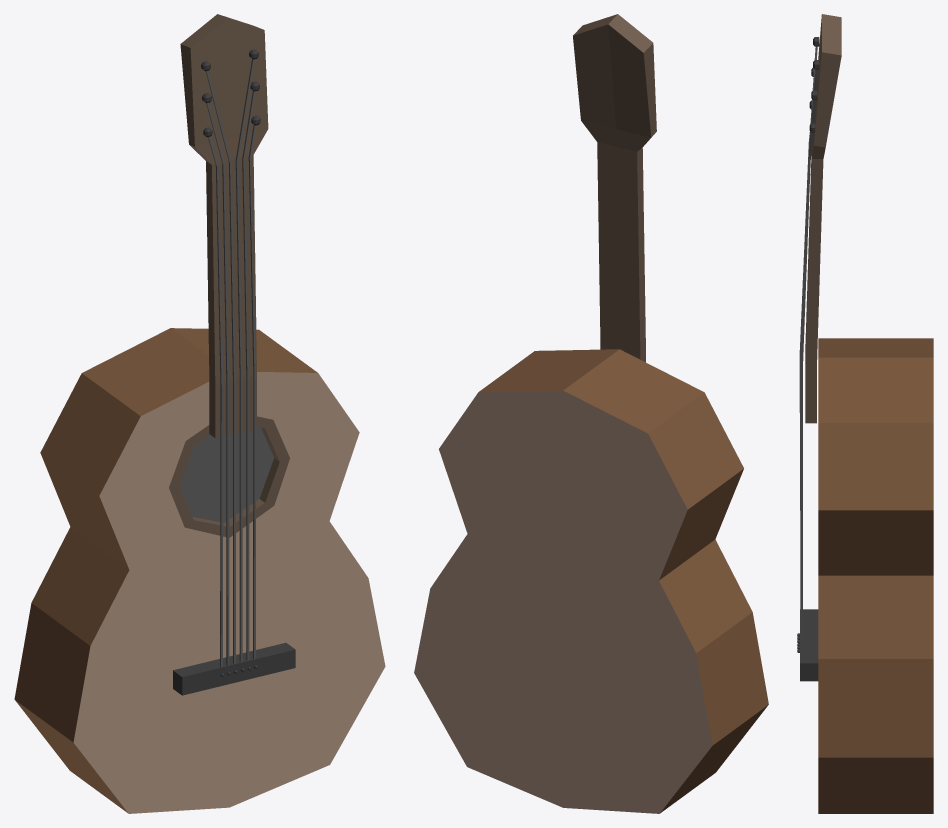
Rendered from Guitar.fbx.
The picture shows the model from 3 angles, left to right: view 1: azimuth 30°, elevation 25°; view 2: azimuth 150°, elevation 25°; view 3: azimuth 270°, elevation 25°; orthographic projection. The views are drawn at different scales.
Visible parts, largest first — view 1: Guitar; view 2: Guitar; view 3: Guitar.
Boxes of the visible parts, left/top/right/bottom form: Guitar: left=14, top=14, right=385, bottom=813; Guitar: left=414, top=14, right=768, bottom=813; Guitar: left=797, top=14, right=933, bottom=813.
Bounding box in the file's own units: 41.56 × 16.08 × 100.
